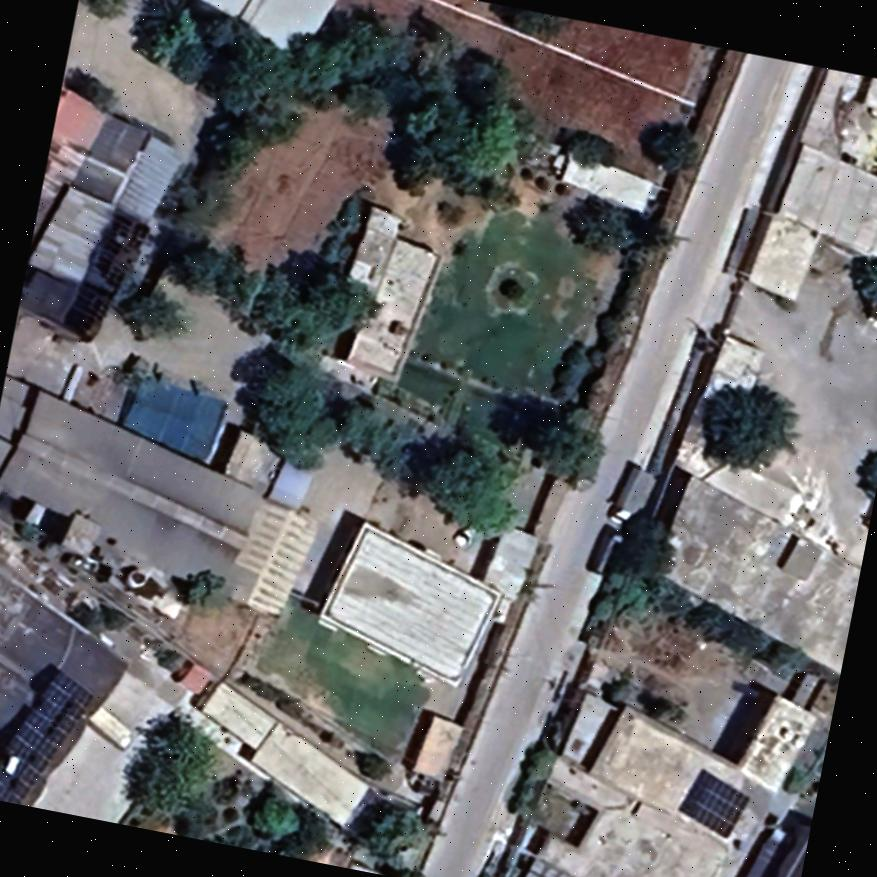Solarpanel: (0, 657, 101, 799), (675, 764, 751, 846)
